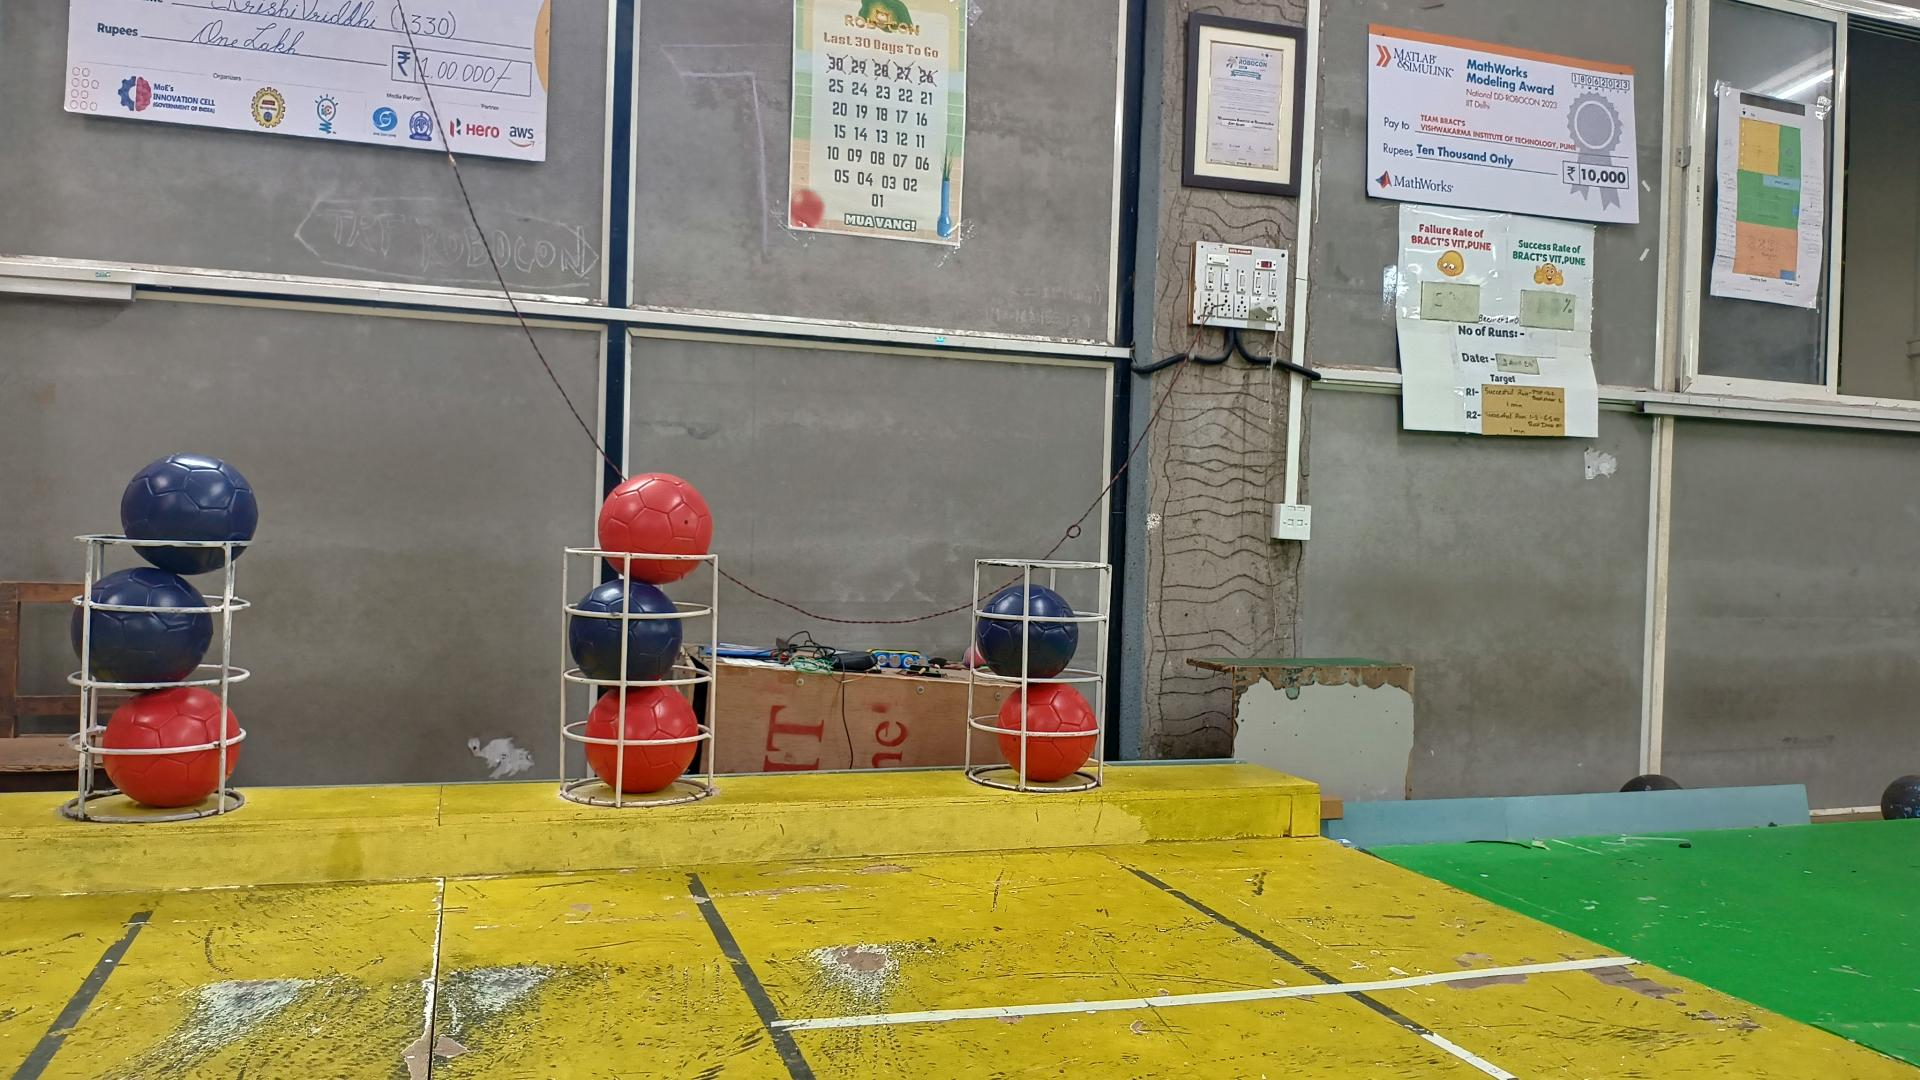dhoka: (69, 568, 215, 684), (121, 450, 257, 574), (570, 578, 686, 683), (978, 583, 1080, 680)
laale: (103, 686, 243, 810), (600, 471, 716, 583), (587, 683, 700, 791), (998, 684, 1096, 786)
